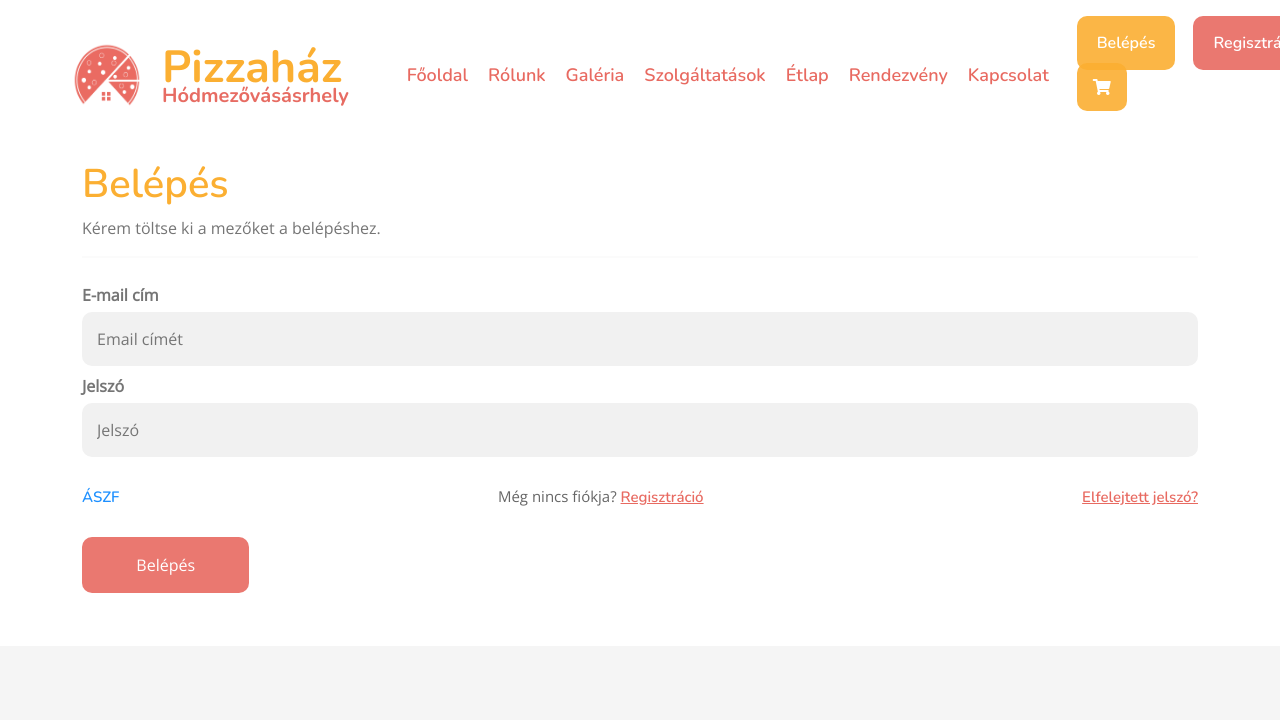
Test case: Fejlett funkcionalitások: Bejelentkezés validáció és hibakezelés › Hibás bejelentkezési adatoknál backend hibát jelenít meg
The image size is (1280, 720).
# Ezt úgy teszteljük, hogy megadunk egy érvényes formátumú, de nem létező taget/jelszót.
Type "nincilyen@teszt.hu" into the field with id "email". click: (640, 339)
box: [82,312,1198,366]
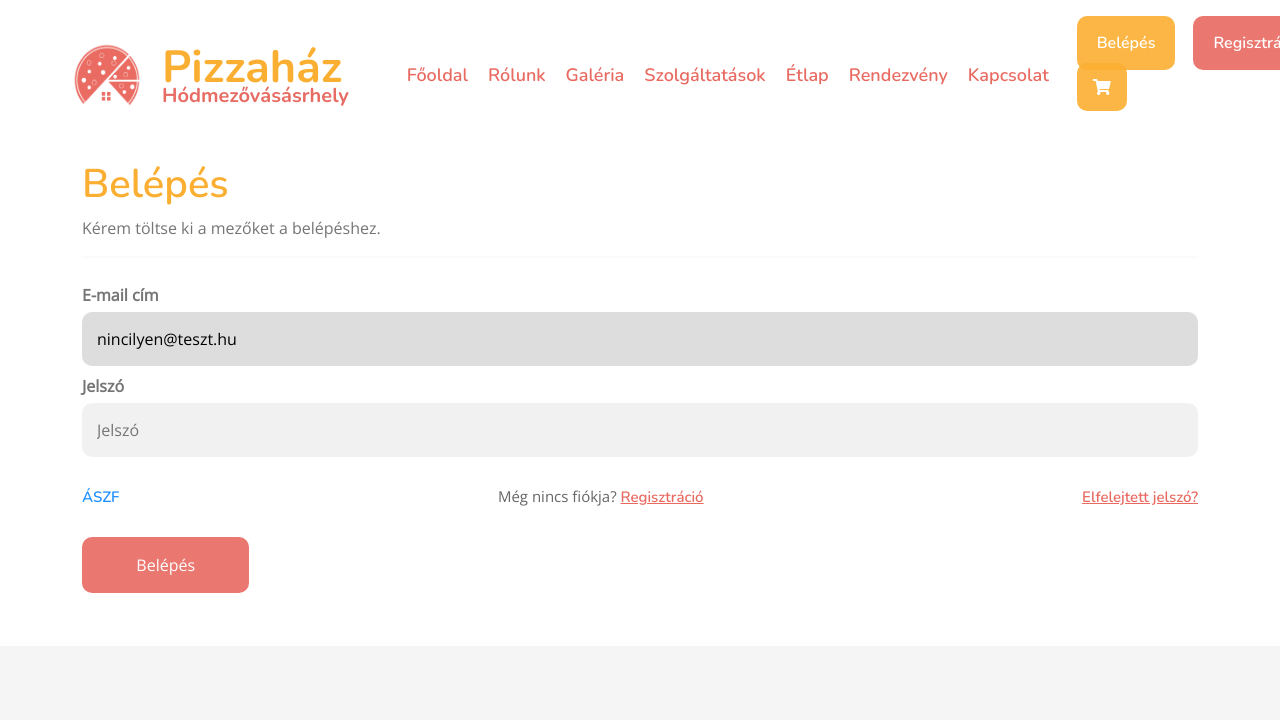
Type "rosszjelszo123" into the password field with placeholder "Jelszó". click: (640, 430)
box: [82,403,1198,457]
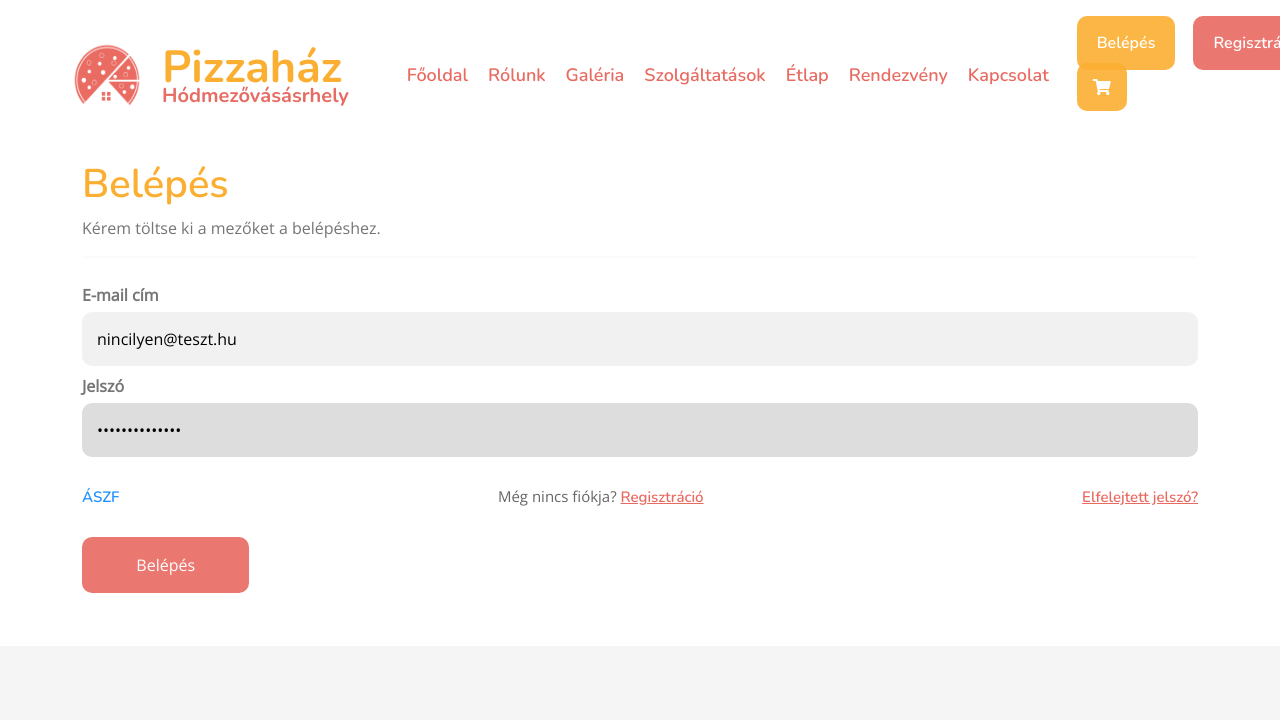
Click the button with class "loginbtn". click: (166, 565)
box: [82,537,249,593]
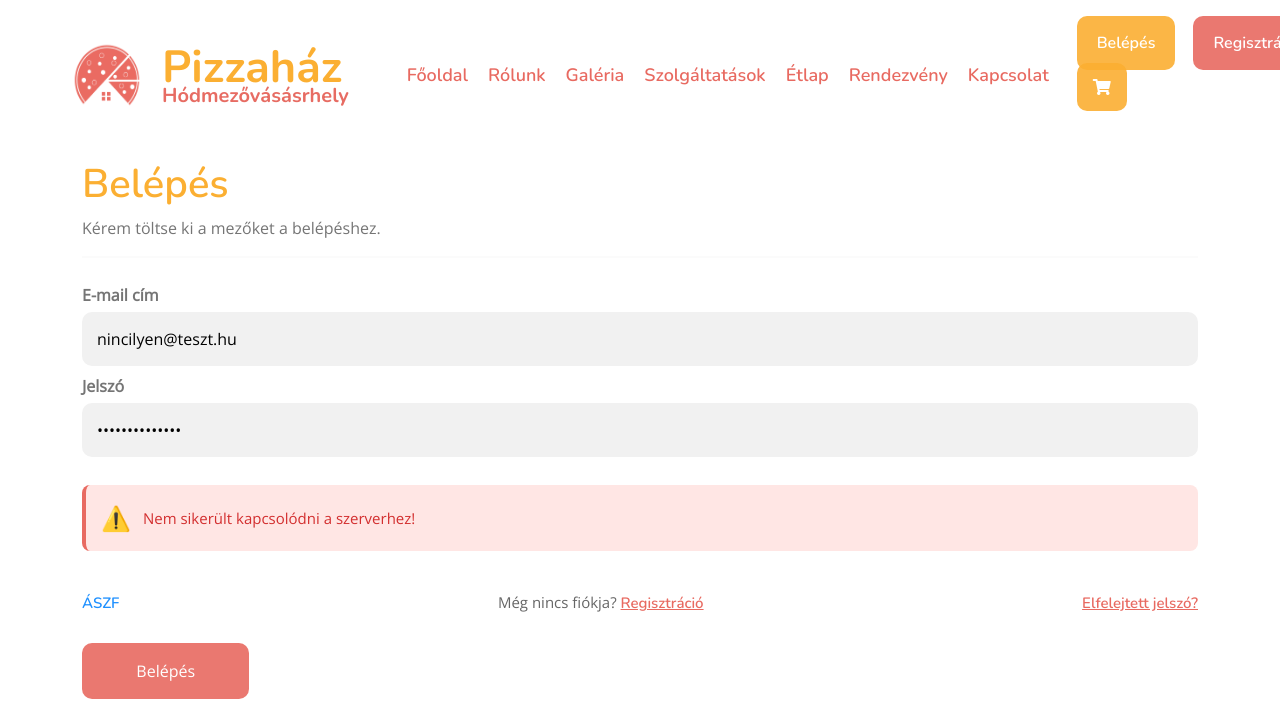
Expected: the element with class "error-text" is not empty
Result: the element with class "backend-error" is shown at [82,485,1198,551]
